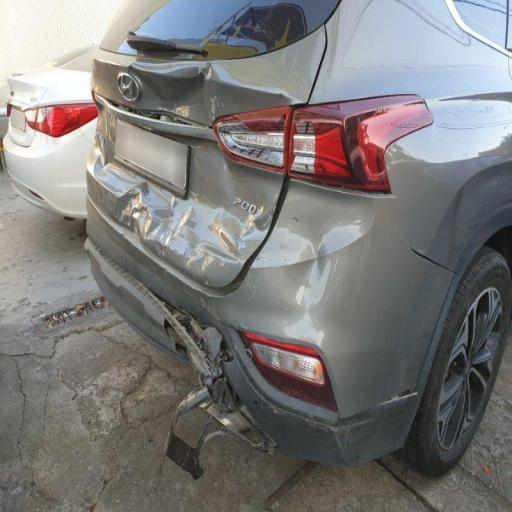broken: (158, 288, 257, 471)
dent: (115, 137, 376, 373)
